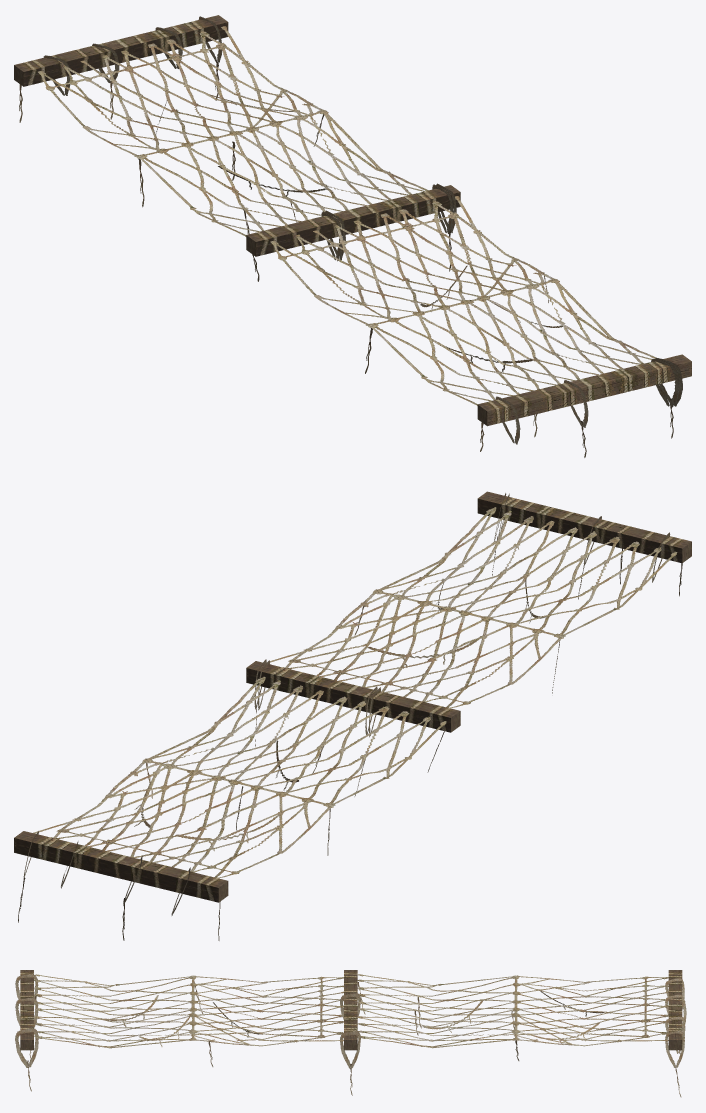
File: bg_lut_mawport_pubinprop02_sm_artree.FBX
3 renders of one model, top to bottom at view 1: azimuth 30°, elevation 25°; view 2: azimuth 150°, elevation 25°; view 3: azimuth 270°, elevation 25°, orthographic. The views are drawn at different scales.
Parts seen in each view (by area): view 1: bg_lut_mawport_pubinprop02_sm_artree; view 2: bg_lut_mawport_pubinprop02_sm_artree; view 3: bg_lut_mawport_pubinprop02_sm_artree.
Part boxes in pixels (x1,y1,x2,y2): bg_lut_mawport_pubinprop02_sm_artree: (14, 15, 691, 457); bg_lut_mawport_pubinprop02_sm_artree: (14, 491, 691, 940); bg_lut_mawport_pubinprop02_sm_artree: (15, 970, 686, 1097).
Size of the model in its own units: 128 by 53.5 by 525.
